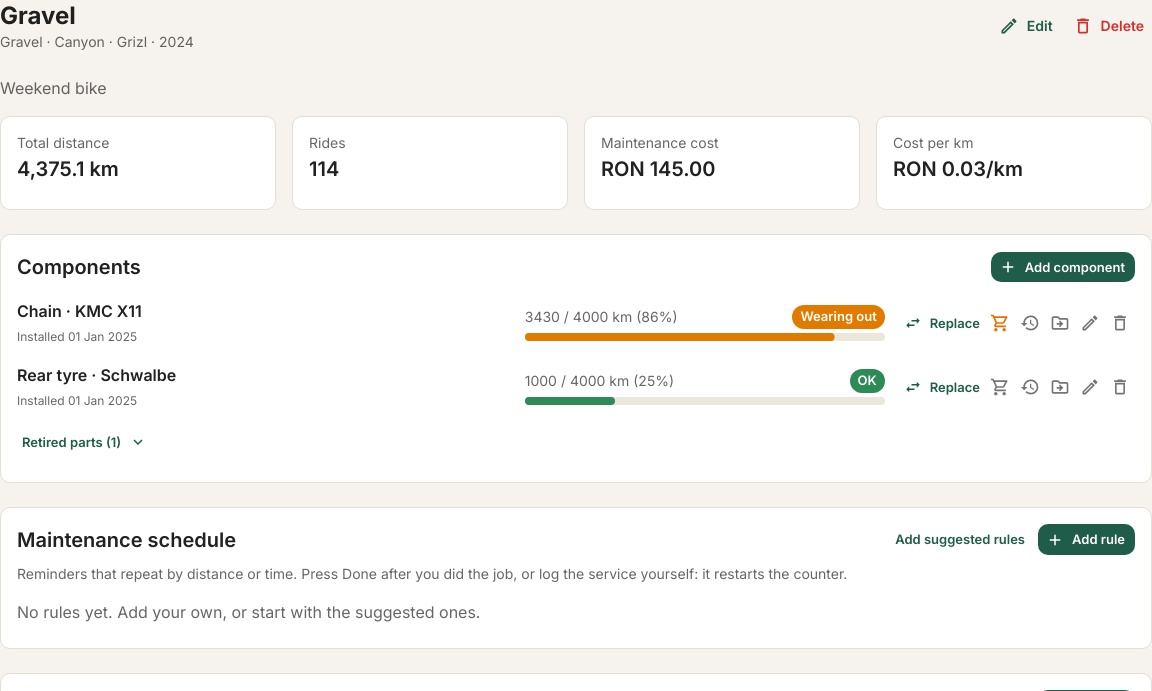
BikeDetail › components › "Replace" opens the service form for that part, already set to a replacement
Expected: the heading "Gravel" is shown, [0,1,76,30]
Click the button "Replace" next to "Wearing out".
click(943, 323)  # box [901,308,985,338]
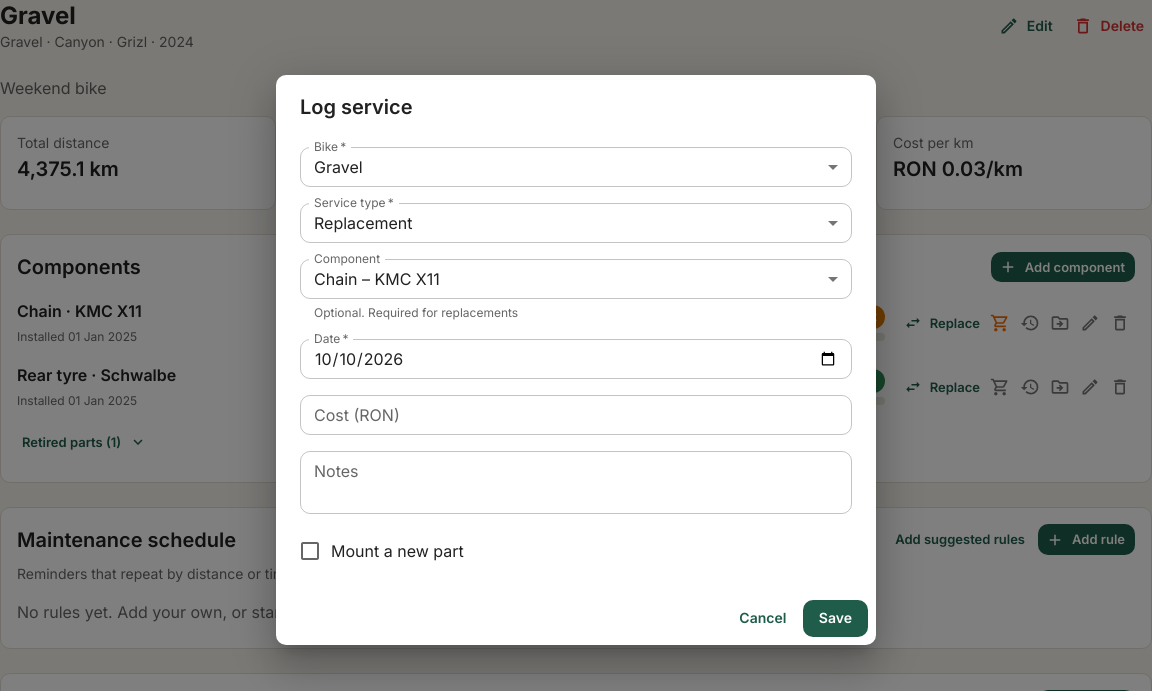
Now the heading "Log service" is shown, box [300,95,413,119]
Now the dropdown named "Service type" reads "Replacement", box [314,213,412,233]
Now the dropdown named "Component" shows "Chain", box [314,269,440,289]
Click the checkbox labelled "Mount a new part".
click(381, 551)  # box [298,539,464,563]
(page scrolled)
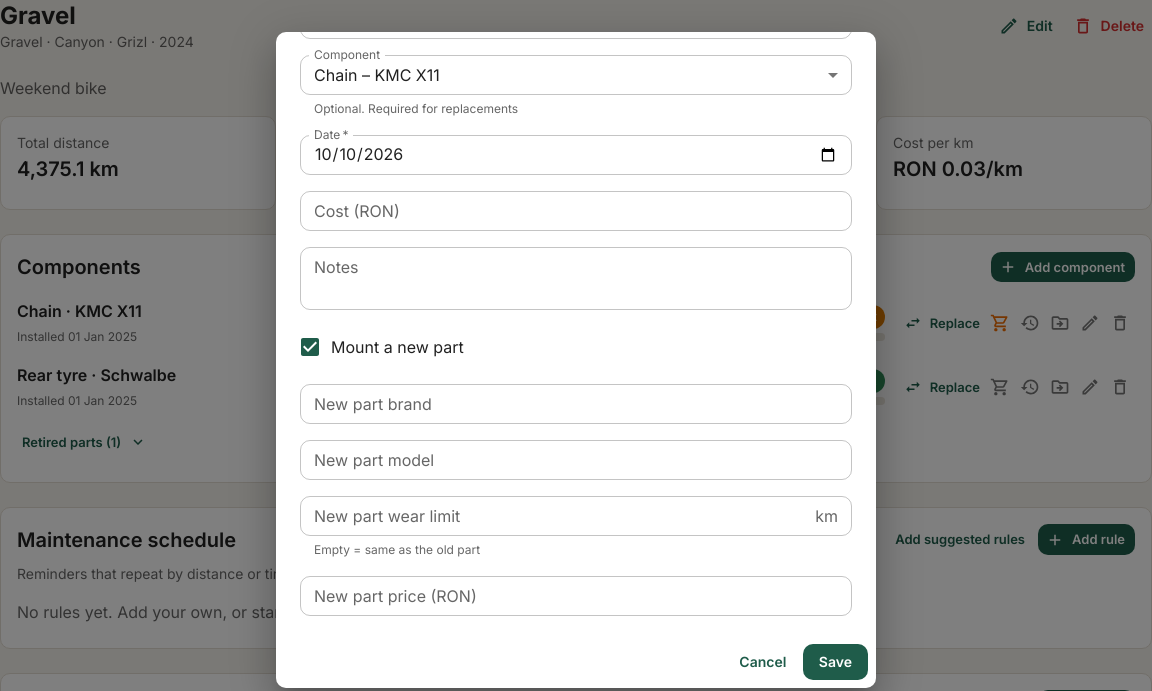
Click the button "Save".
click(835, 662)  # box [803,644,868,680]
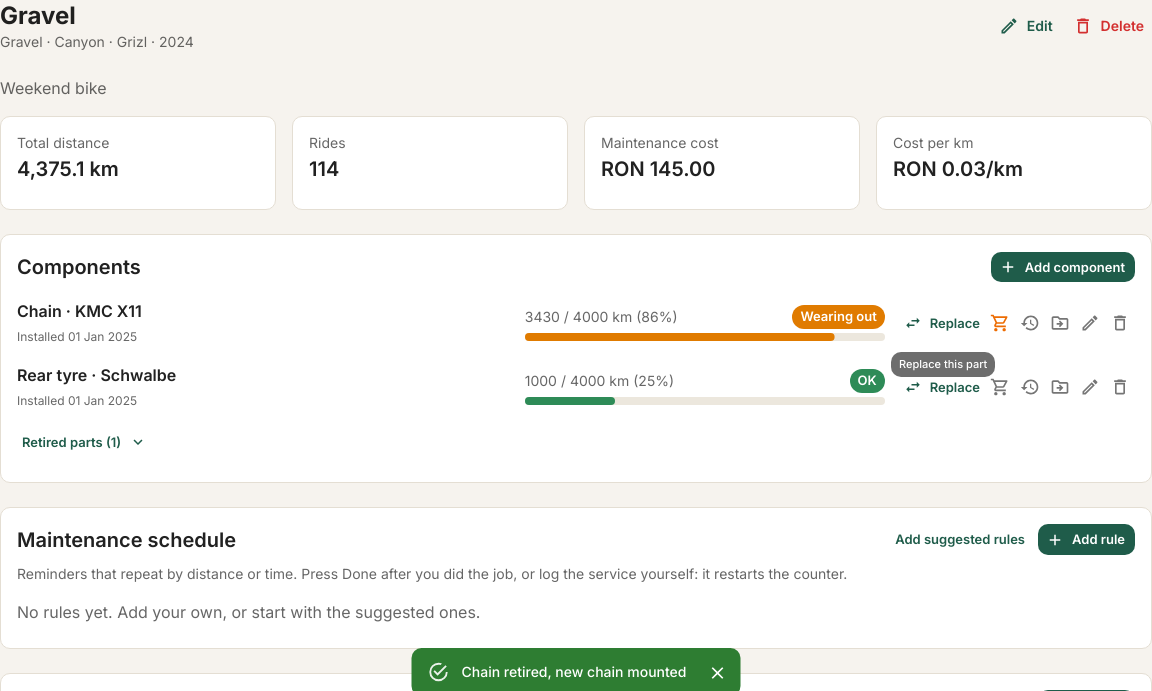
Now the text "Chain retired, new chain mounted" is shown, box [462,663,686,680]
